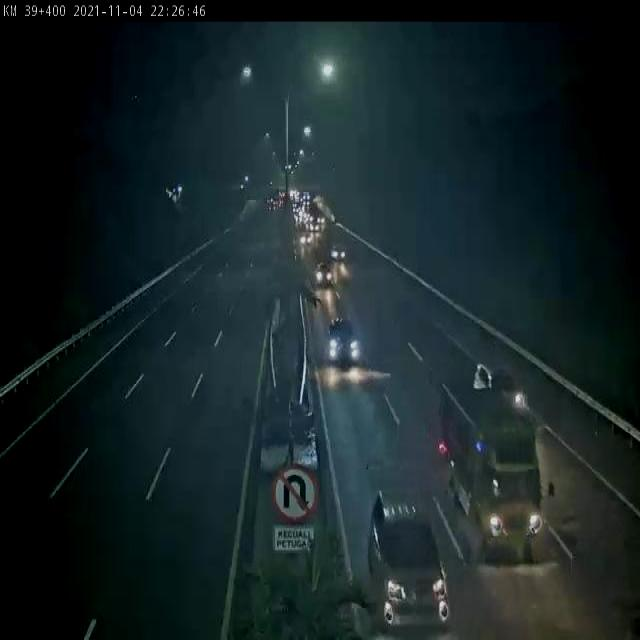Car: (319, 304, 366, 371), (306, 260, 337, 290), (329, 238, 346, 261)
Cycle: (364, 480, 455, 631)
Truck: (434, 320, 556, 572)
